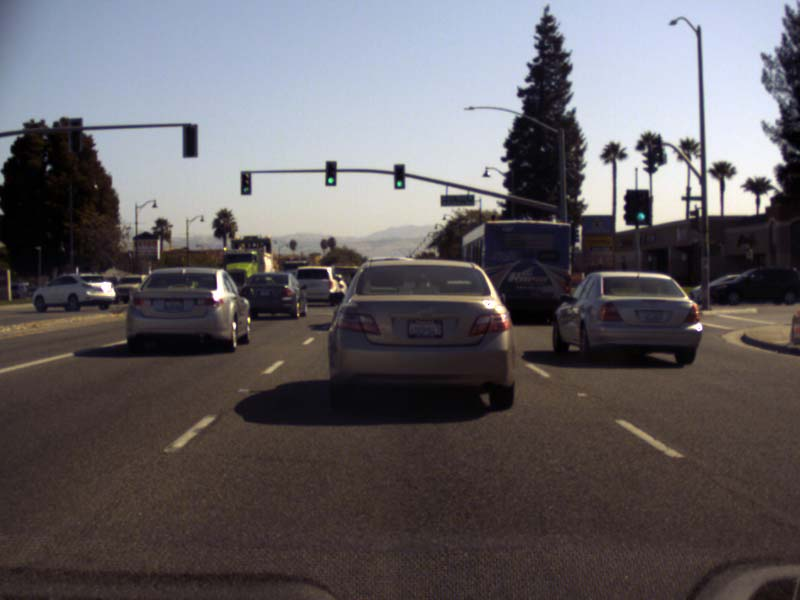Green: (634, 191, 646, 223), (325, 162, 336, 185), (394, 165, 404, 188), (241, 171, 250, 194)
